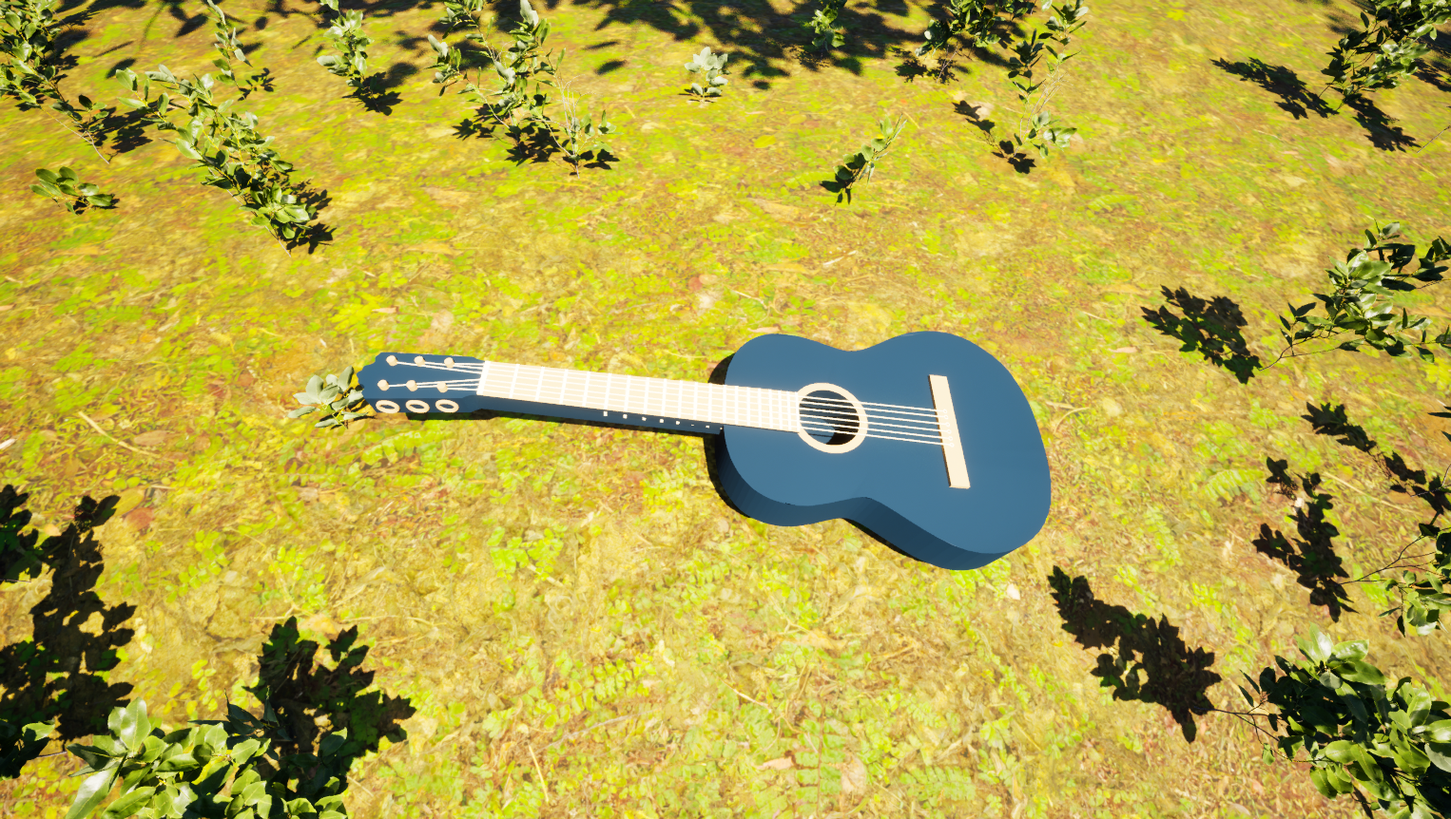Guitar: (280, 259, 1157, 576)
